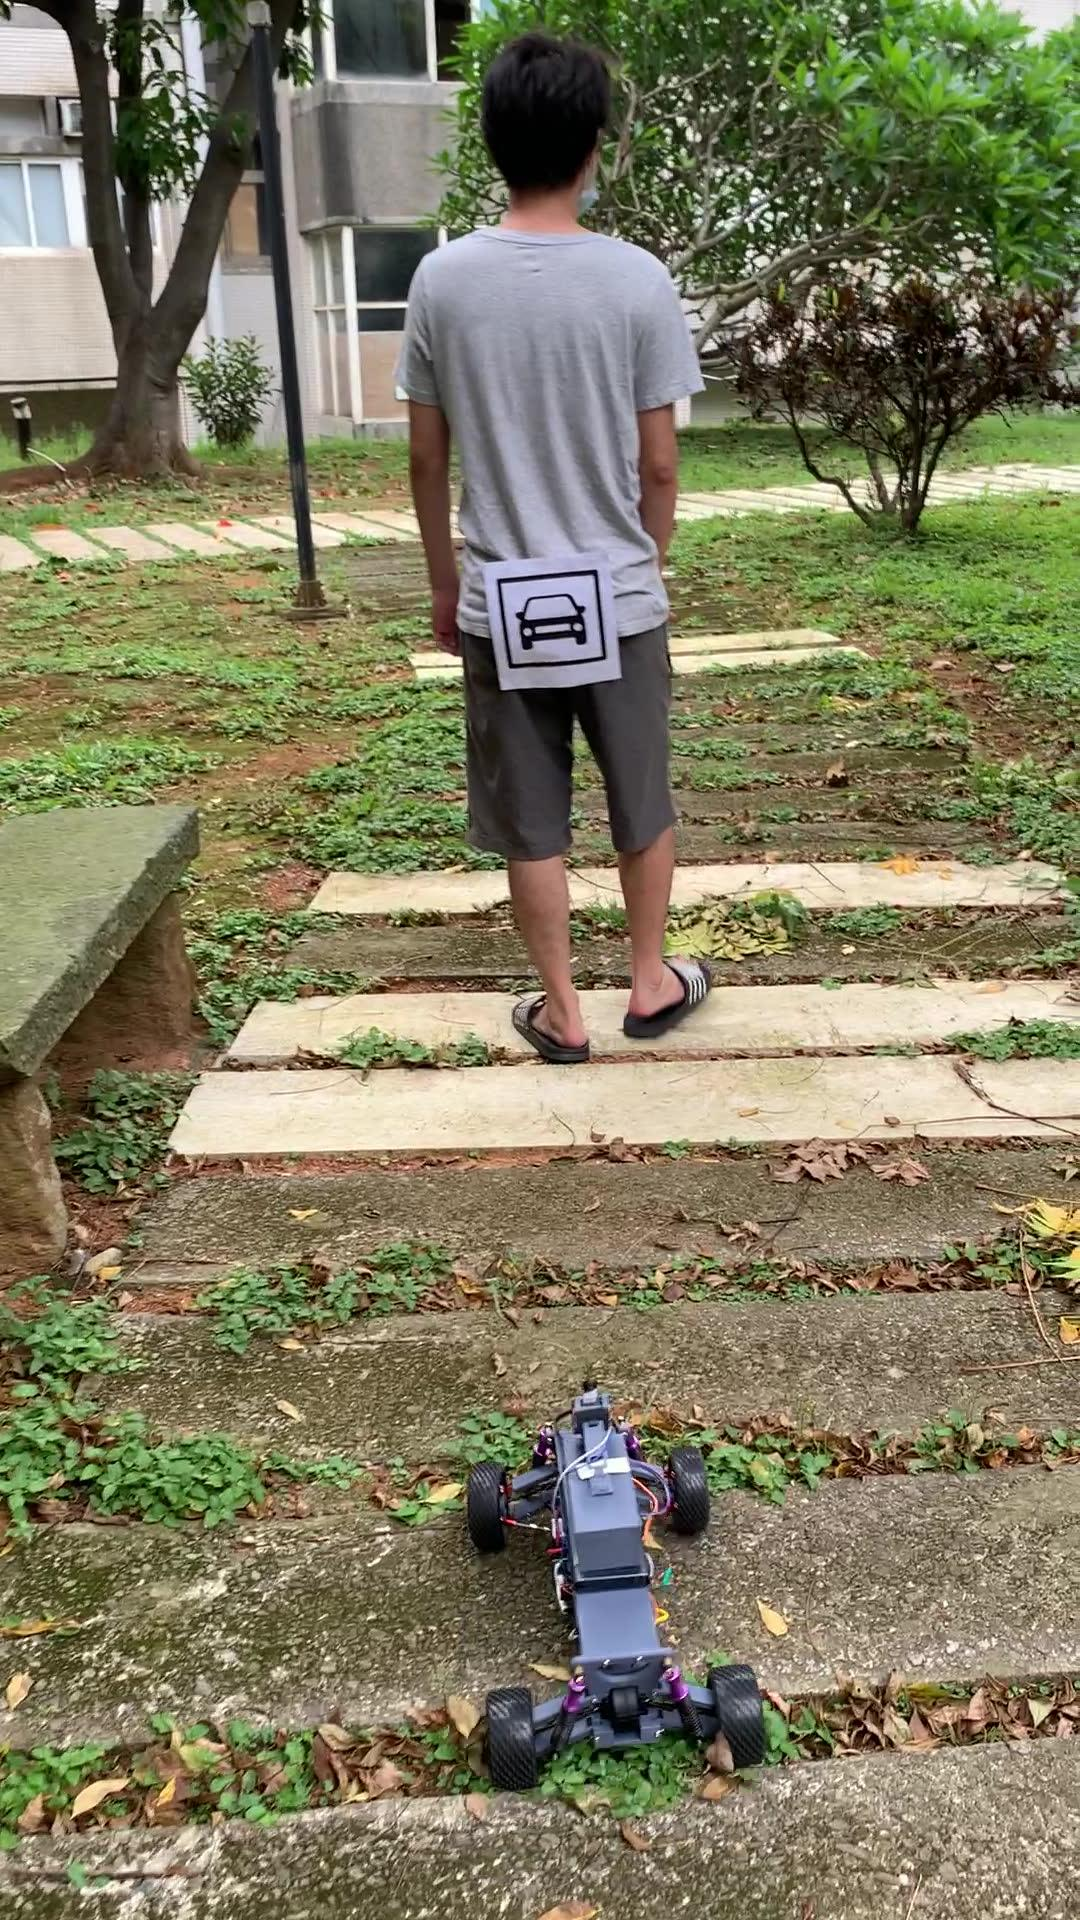car_img: (496, 568, 608, 670)
